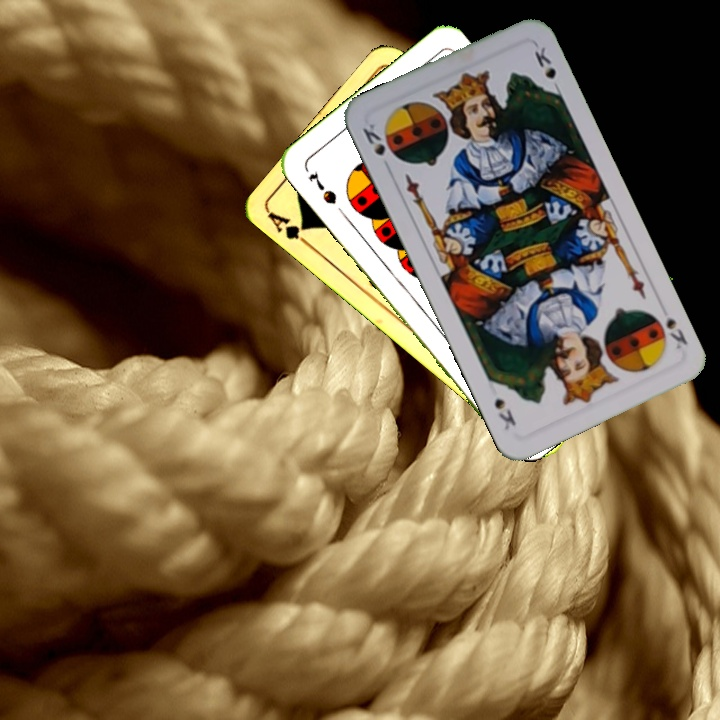GA: (265, 208, 316, 251)
S7: (304, 167, 340, 207)
SK: (358, 119, 394, 174), (661, 313, 690, 352)
